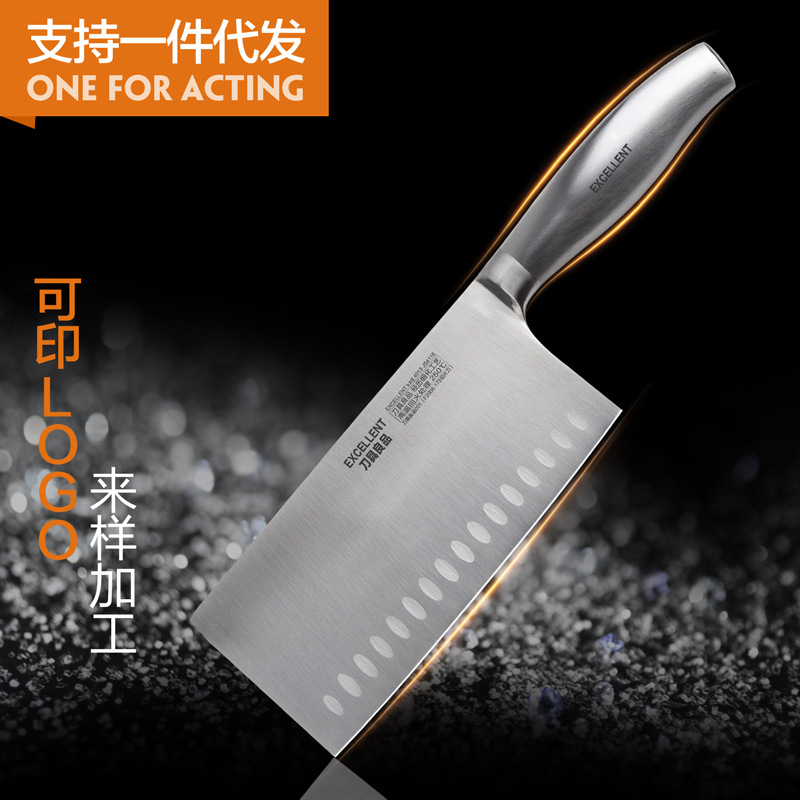knief: (177, 58, 755, 756)
